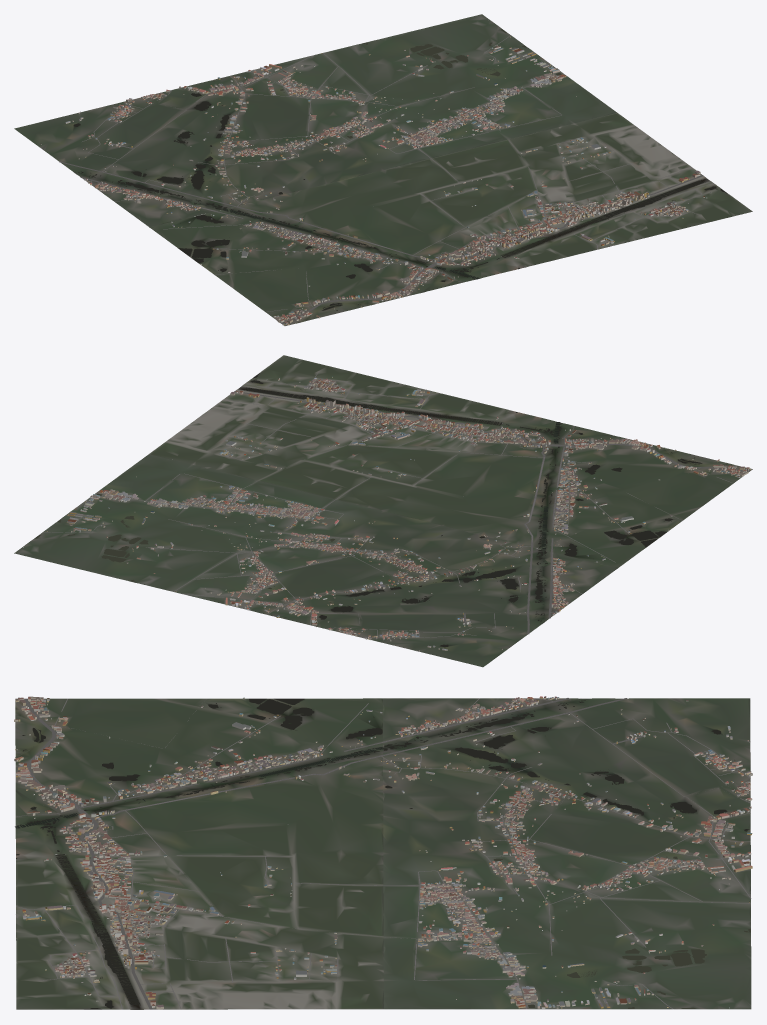
The picture shows the model from 3 angles, top to bottom: view 1: azimuth 30°, elevation 25°; view 2: azimuth 150°, elevation 25°; view 3: azimuth 270°, elevation 25°; orthographic projection. The views are drawn at different scales.
Visible parts, largest first — view 1: ground, buildings, roads, water; view 2: ground, buildings, roads, water; view 3: ground, buildings, roads, water.
Boxes of the visible parts, x1,y1,x2,y2 form: ground: [14, 14, 752, 325]; buildings: [40, 19, 710, 325]; roads: [59, 35, 713, 325]; water: [73, 29, 727, 320]; ground: [14, 355, 752, 667]; buildings: [23, 376, 751, 651]; roads: [43, 371, 749, 637]; water: [34, 373, 725, 647]; ground: [15, 698, 751, 1009]; buildings: [14, 696, 752, 1009]; roads: [16, 698, 751, 1009]; water: [15, 698, 750, 1009].
Bounding box in the file's own units: 2816 × 29.25 × 2819.
